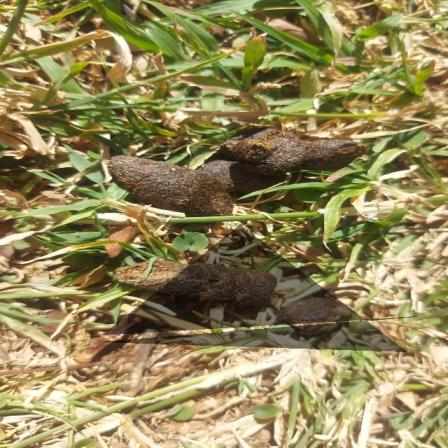dog-poop: (100, 132, 360, 210), (121, 256, 346, 334)
